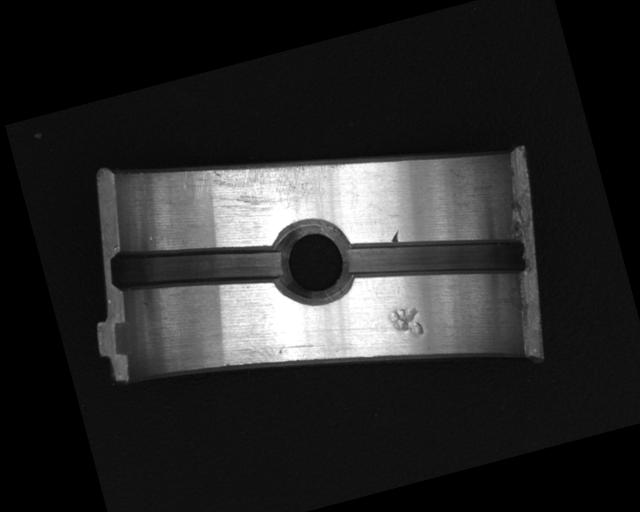bruise: (385, 302, 427, 344), (388, 228, 402, 244)
gap: (343, 202, 531, 312), (106, 214, 287, 322)
hole: (264, 213, 361, 312)
scratch: (178, 131, 346, 242)
